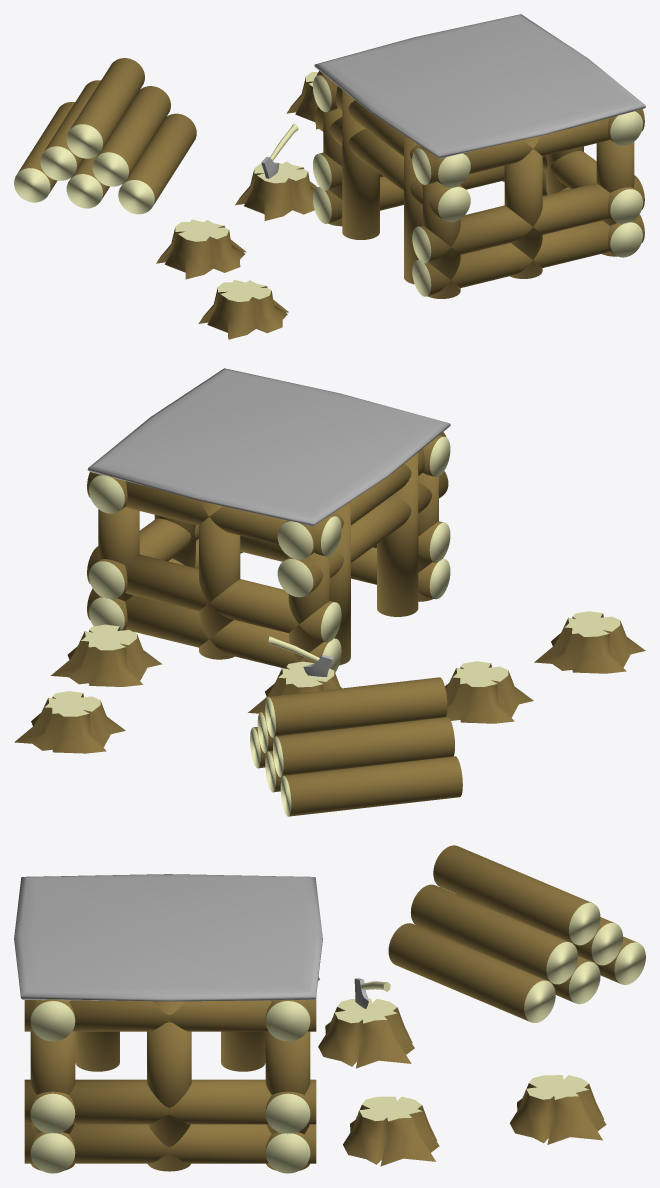
Rendered from forestGatherers.glb.
3 renders of one model, top to bottom at view 1: azimuth 30°, elevation 25°; view 2: azimuth 150°, elevation 25°; view 3: azimuth 270°, elevation 25°, orthographic. The views are drawn at different scales.
Parts seen in each view (by area): view 1: Cube.001, Cylinder.006, Cylinder.020, Cylinder.011, Cylinder.002, Cylinder.017, Cylinder.016, Plane.001, Plane.004, Cylinder.013, Plane, Cylinder.019 (+13 smaller); view 2: Cube.001, Cylinder.006, Cylinder.021, Cylinder.012, Cylinder.003, Cylinder.018, Plane.003, Plane.001, Plane.002, Cylinder.016, Plane.004, Cylinder.014 (+14 smaller); view 3: Cube.001, Cylinder.006, Cylinder.019, Cylinder.010, Cylinder.007, Plane.002, Plane.003, Plane, Cylinder.015, Cylinder.008, Cylinder.009, Cylinder.017 (+8 smaller).
Boxes of the visible parts, box(x1,y1,x2,y2) form: Cube.001: box(314, 14, 645, 158); Cylinder.006: box(14, 58, 196, 214); Cylinder.020: box(412, 175, 644, 263); Cylinder.011: box(412, 214, 644, 296); Cylinder.002: box(412, 109, 644, 184); Cylinder.017: box(342, 90, 379, 239); Cylinder.016: box(314, 107, 470, 222); Plane.001: box(198, 279, 288, 339); Plane.004: box(156, 219, 245, 279); Cylinder.013: box(504, 136, 542, 278); Plane: box(235, 161, 317, 220); Cylinder.019: box(542, 151, 642, 224); Cube.001: box(87, 368, 450, 526); Cylinder.006: box(250, 677, 462, 816); Cylinder.021: box(87, 546, 341, 642); Cylinder.012: box(87, 588, 341, 672); Cylinder.003: box(87, 472, 341, 556); Cylinder.018: box(377, 452, 418, 616); Plane.003: box(14, 691, 125, 753); Plane.001: box(534, 611, 645, 673); Plane.002: box(51, 624, 162, 686); Cylinder.016: box(277, 471, 448, 597); Plane.004: box(445, 661, 533, 723); Cylinder.014: box(199, 501, 240, 659); Cube.001: box(14, 874, 322, 1001); Cylinder.006: box(388, 845, 645, 1022); Cylinder.019: box(24, 1079, 316, 1124); Cylinder.010: box(24, 1124, 316, 1163); Cylinder.007: box(24, 997, 316, 1031); Plane.002: box(343, 1096, 439, 1166); Plane.003: box(510, 1075, 606, 1144); Plane: box(318, 998, 414, 1068); Cylinder.015: box(147, 1001, 191, 1171); Cylinder.008: box(30, 1000, 75, 1170); Cylinder.009: box(265, 1000, 310, 1170); Cylinder.017: box(221, 1031, 265, 1071).
Size of the model in its own units: 2.62 by 0.8888 by 2.82.
